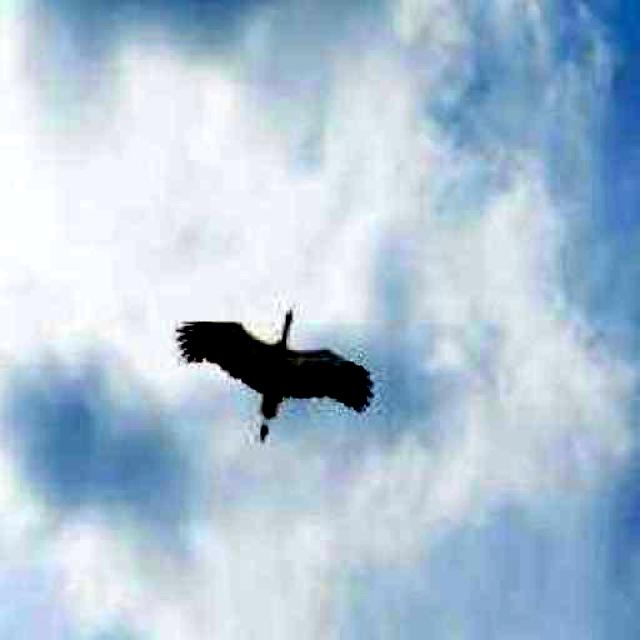airplane: (175, 302, 375, 449)
